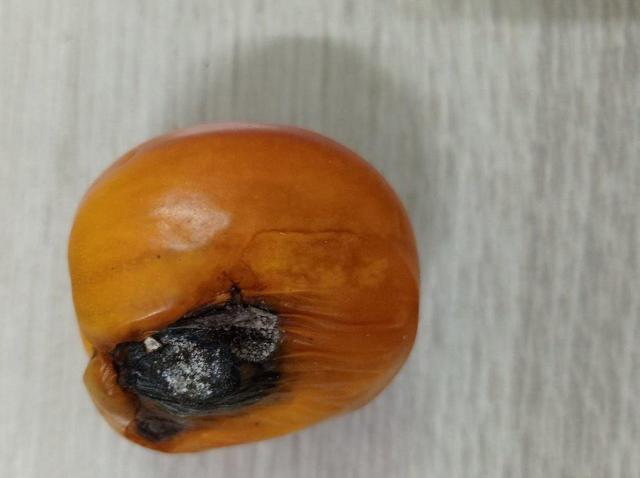defect: (57, 129, 432, 456)
